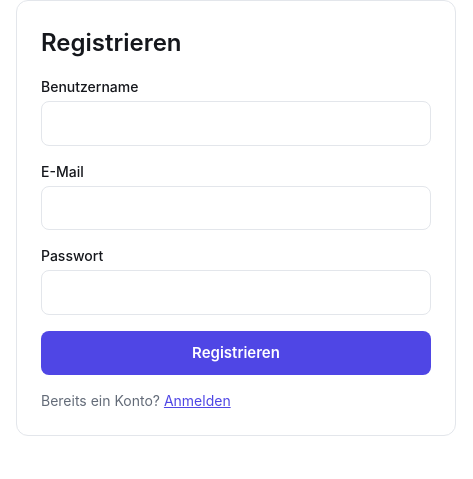
it: RegisterPage › shows a 422 field error next to its field
The image size is (473, 479).
Type "alice" into the field labelled "Benutzername" at (236, 123), box left=41, top=101, right=431, bottom=146
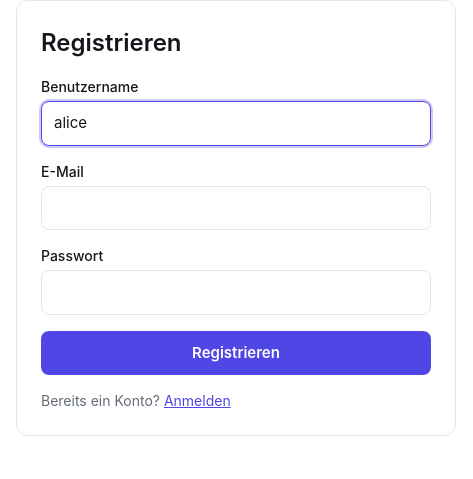
Type "alice@example.com" into the field labelled "E-Mail" at (236, 208), box left=41, top=186, right=431, bottom=230
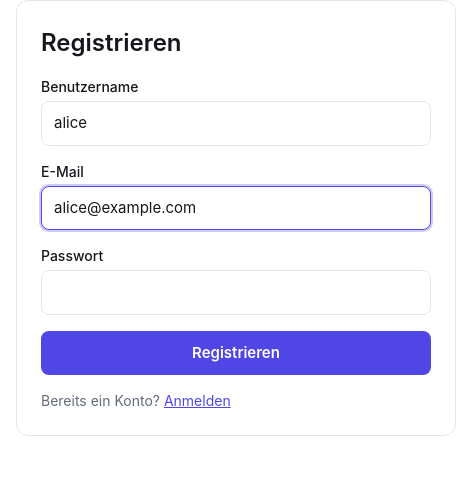
Type "SichereS3!chens" into the password field labelled "Passwort" at (236, 292), box left=41, top=270, right=431, bottom=314
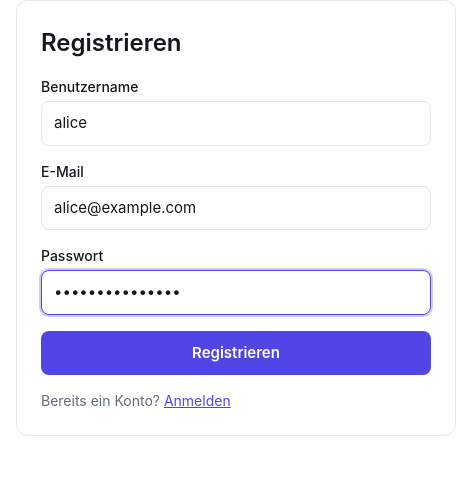
Click the button "Registrieren" at (236, 352), box left=41, top=330, right=431, bottom=374
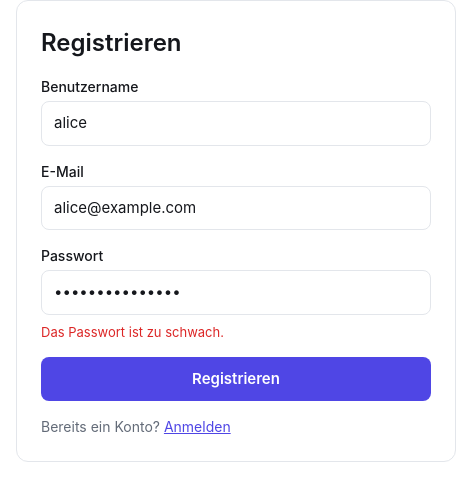
Expected: the text "Das Passwort ist zu schwach." is shown, left=41, top=324, right=224, bottom=340
